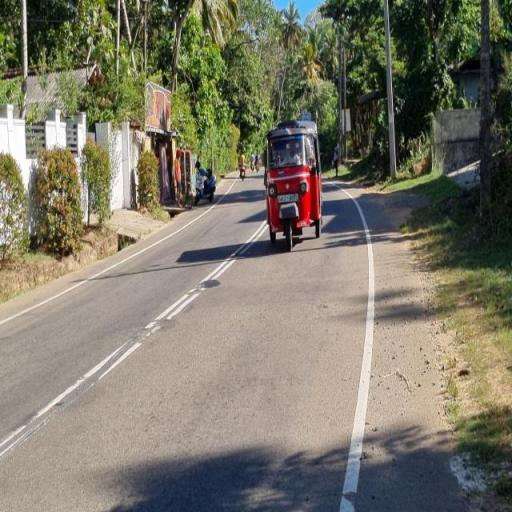double_white_line: (142, 221, 268, 336)
